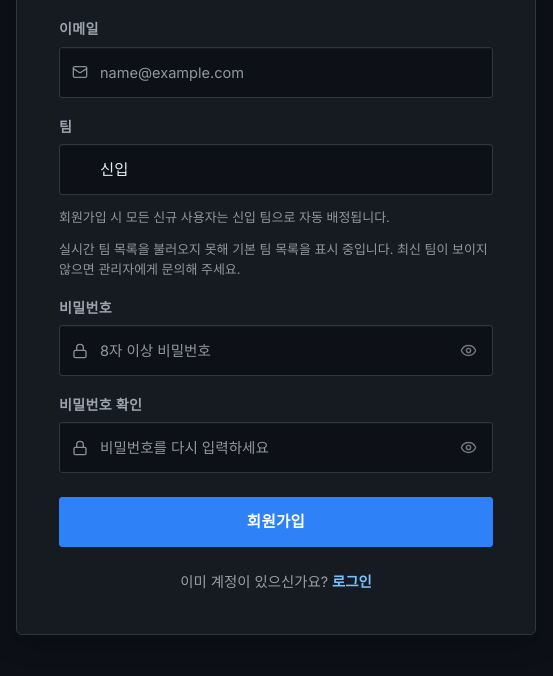
Test: Register 페이지 › 필수값이 비어 있으면 유효성 에러를 표시한다
This screenshot has width=553, height=676.
(page scrolled)
What coordinates should you click on to do the following:
click the button "회원가입"
I would click on:
 (276, 522)
Its box is 59,497 -> 493,547.
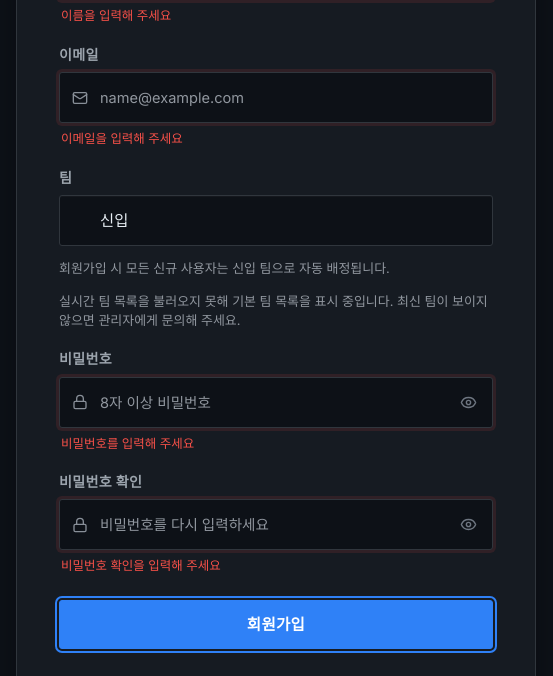
Expected: the text "이름을 입력해 주세요" is shown, 61,8 -> 171,24
Expected: the text "이메일을 입력해 주세요" is shown, 61,131 -> 183,146
Expected: the text "비밀번호를 입력해 주세요" is shown, 61,436 -> 194,451
